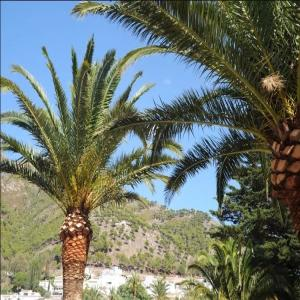palm tree: (0, 32, 184, 299)
